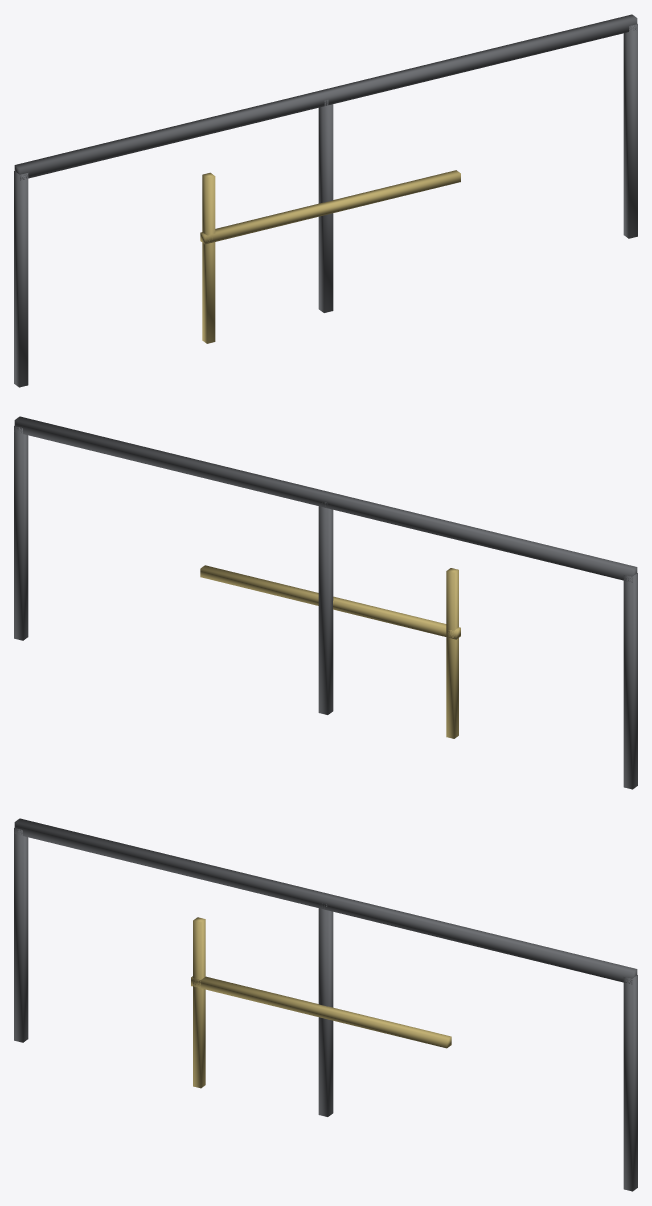
The model's file is industrial_gate_l300_h100.glb.
The picture shows the model from 3 angles, top to bottom: view 1: azimuth 30°, elevation 25°; view 2: azimuth 150°, elevation 25°; view 3: azimuth 330°, elevation 25°; orthographic projection.
Parts seen in each view (by area): view 1: world; view 2: world; view 3: world.
Part boxes in pixels (bbox=[...]): world: bbox=[14, 14, 637, 387]; world: bbox=[14, 416, 637, 789]; world: bbox=[14, 818, 637, 1191].
Size of the model in its own units: 3.05 by 1.03 by 0.0825.
